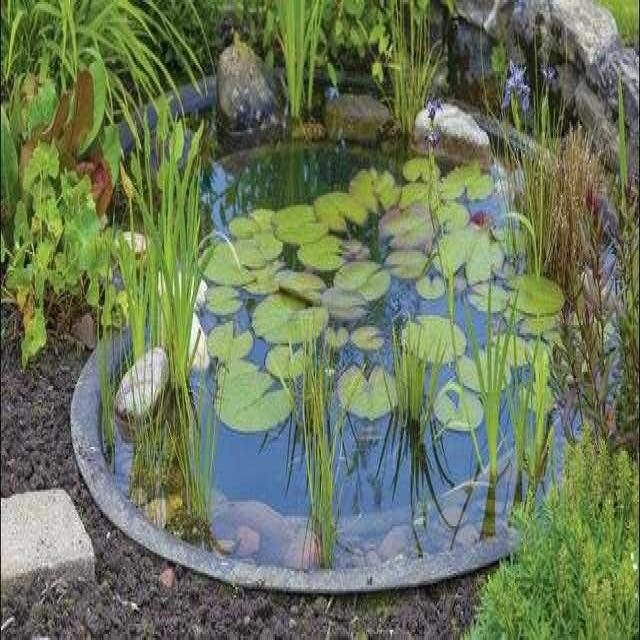Ponds: (73, 1, 640, 594)
